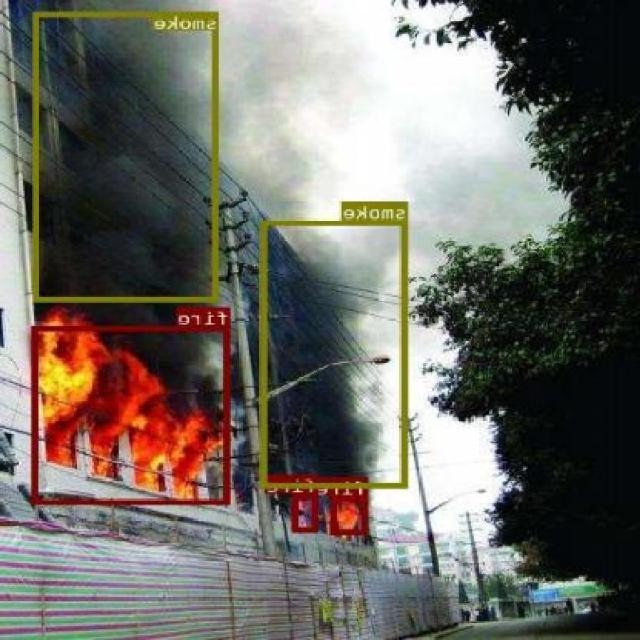Fire: (34, 326, 231, 504), (332, 494, 370, 534), (294, 492, 320, 531)
Smoke: (35, 12, 220, 300), (262, 220, 408, 488)
